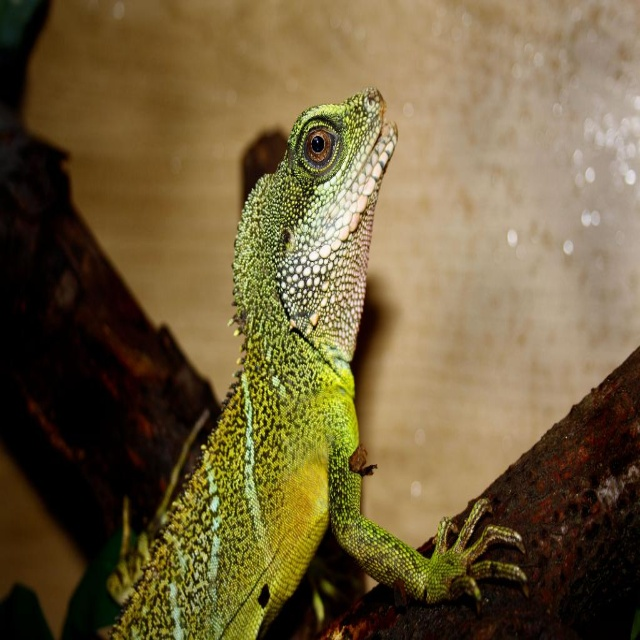Lizard: (93, 86, 472, 640)
